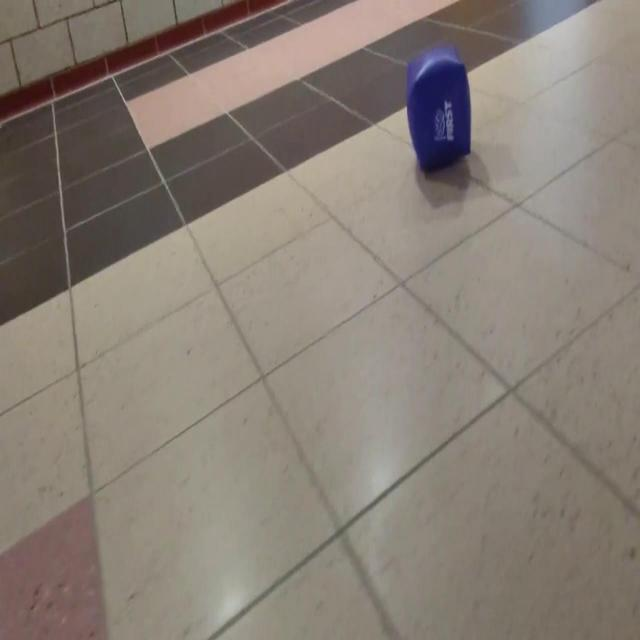frc_cube: (405, 50, 471, 173)
